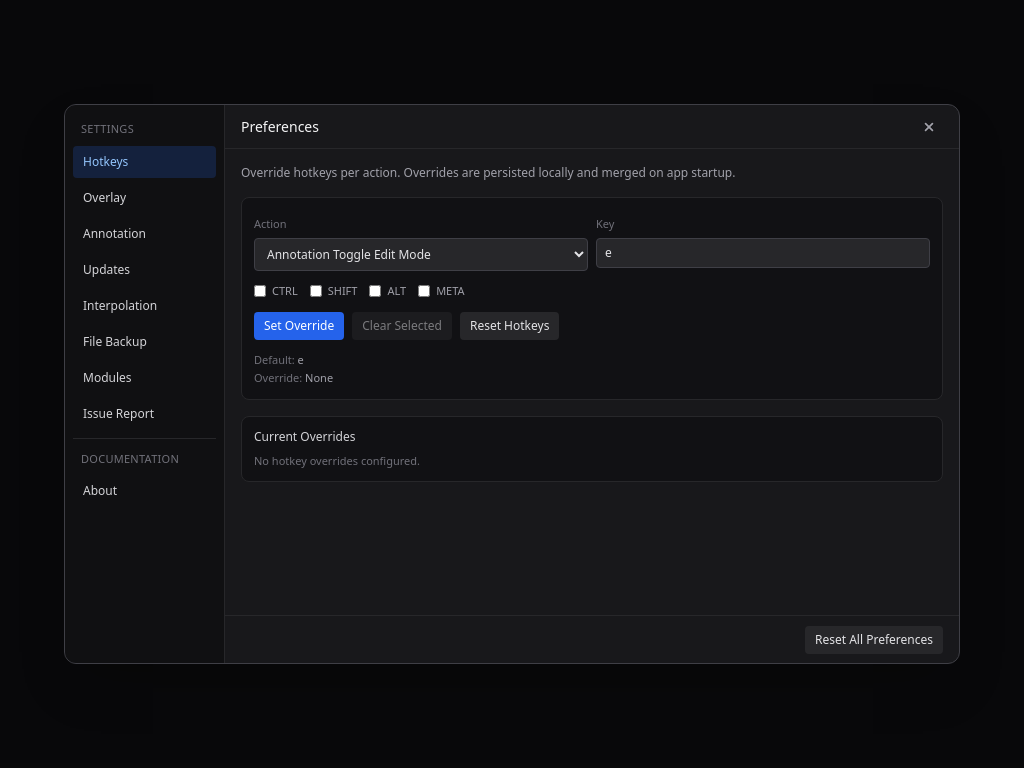
SettingsModal issue report panel › shows copy failure state when copy-time report generation fails
What coordinates should you click on to do the following:
click the button "Issue Report"
I would click on:
 (144, 414)
Its box is x1=73 y1=398 x2=216 y2=430.
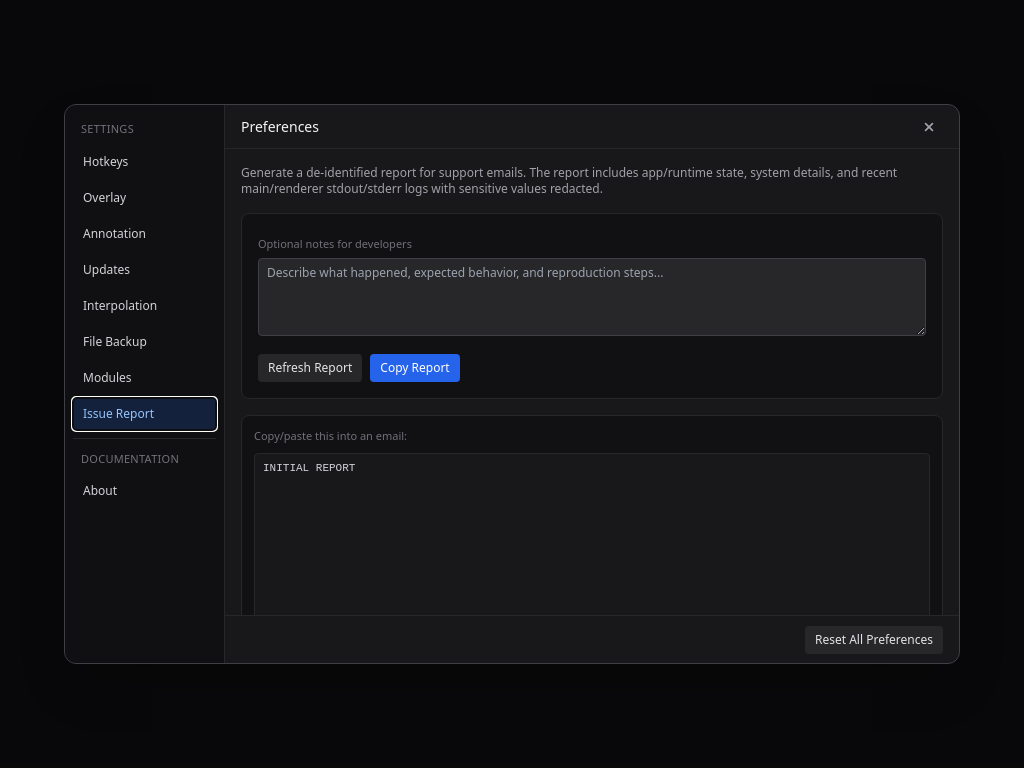
What coordinates should you click on to do the following:
click the button "Copy Report"
I would click on:
 (415, 368)
Its box is x1=370 y1=354 x2=460 y2=382.
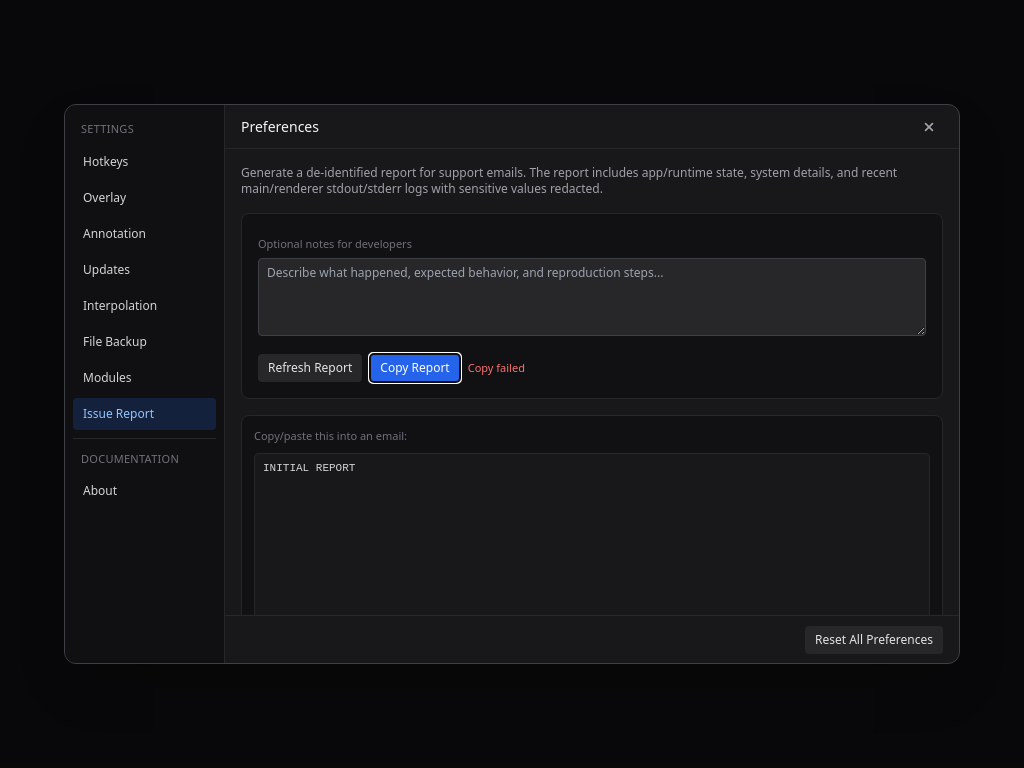
Expected: the text "Copy failed" is shown, x1=468 y1=360 x2=525 y2=376
